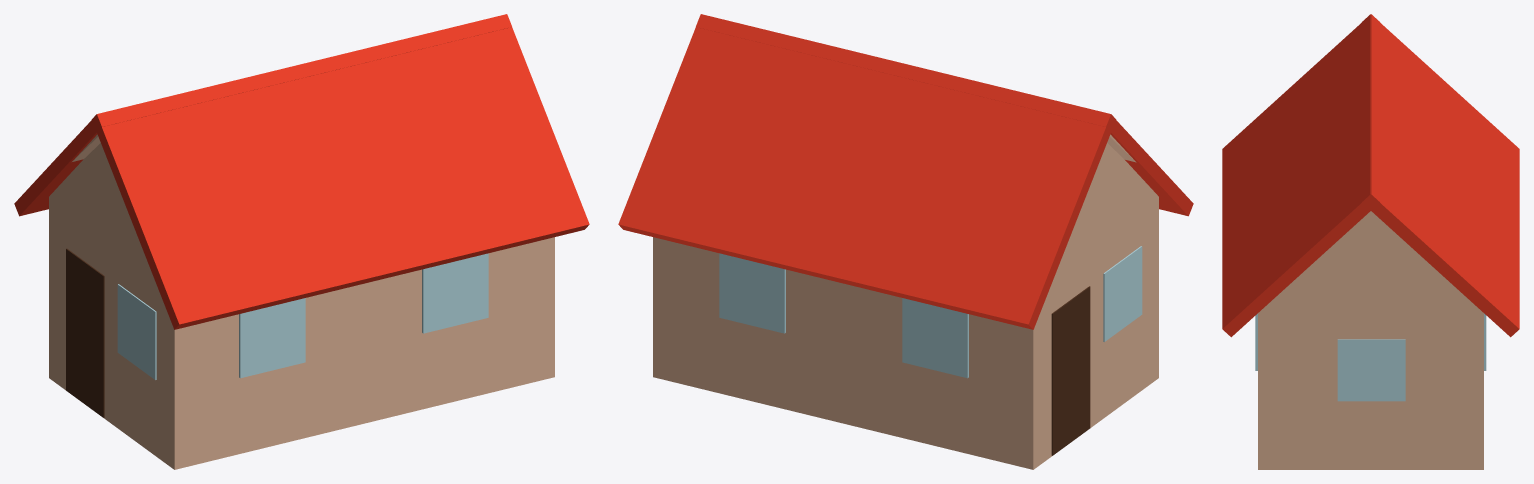
Rendered from home1.fbx.
3 renders of one model, left to right at view 1: azimuth 30°, elevation 25°; view 2: azimuth 150°, elevation 25°; view 3: azimuth 270°, elevation 25°, orthographic. The views are drawn at different scales.
Parts seen in each view (by area): view 1: Cube.003, Cube, Cube.001, Cube.004; view 2: Cube.003, Cube, Cube.001, Cube.004; view 3: Cube.003, Cube, Cube.001.
Boxes of the visible parts, bbox=[...] form: Cube.003: bbox=[14, 14, 589, 329]; Cube: bbox=[49, 134, 554, 469]; Cube.001: bbox=[117, 253, 488, 379]; Cube.004: bbox=[66, 248, 104, 417]; Cube.003: bbox=[618, 14, 1193, 329]; Cube: bbox=[653, 134, 1158, 469]; Cube.001: bbox=[719, 246, 1142, 378]; Cube.004: bbox=[1051, 286, 1090, 455]; Cube.003: bbox=[1222, 14, 1519, 337]; Cube: bbox=[1258, 211, 1483, 469]; Cube.001: bbox=[1255, 313, 1486, 401].
Size of the model in its own units: 405 by 296 by 282.
